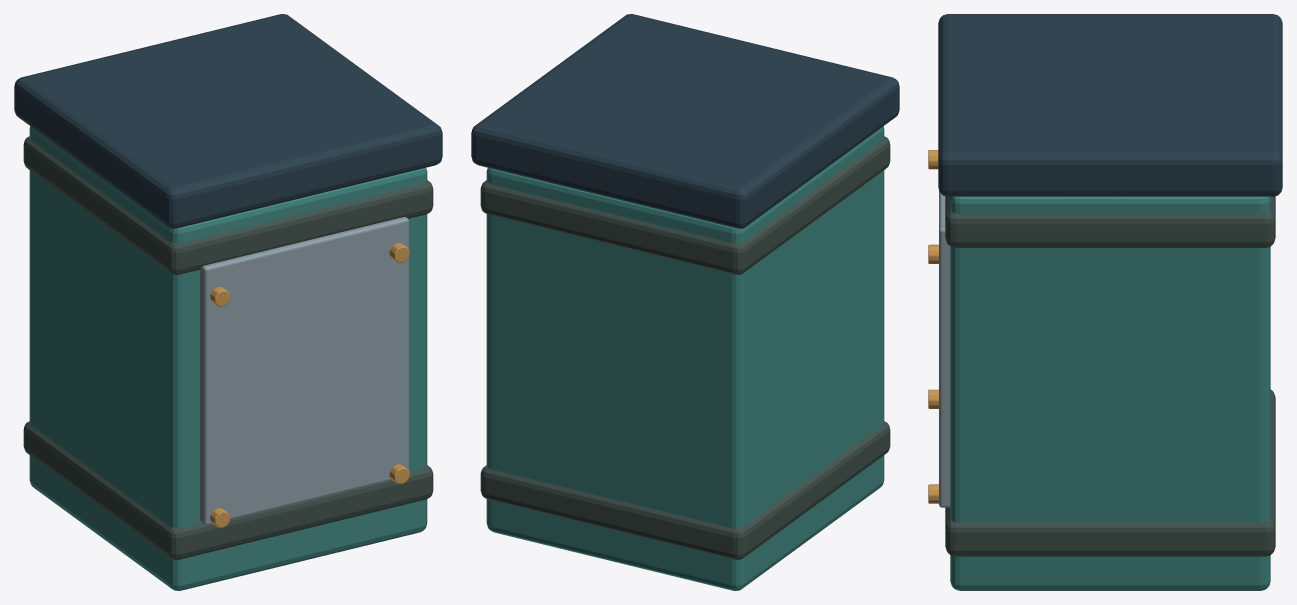
File: trash_bin.glb
3 renders of one model, left to right at view 1: azimuth 30°, elevation 25°; view 2: azimuth 150°, elevation 25°; view 3: azimuth 270°, elevation 25°, orthographic. The views are drawn at different scales.
Visible parts, largest first — view 1: Band.017; view 2: Band.017; view 3: Band.017.
Part boxes in pixels (x1=…): Band.017: x1=14, y1=14, x2=442, y2=590; Band.017: x1=471, y1=14, x2=899, y2=590; Band.017: x1=928, y1=14, x2=1282, y2=590.
Bounding box in the file's own units: 0.86 × 1.22 × 0.885.
